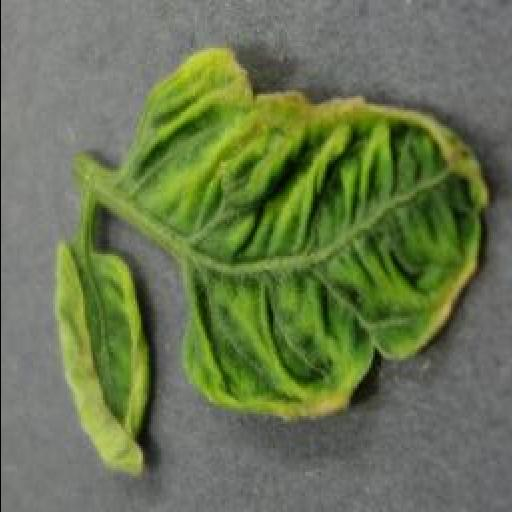disease_tomato: (126, 47, 490, 421), (54, 238, 150, 478)
